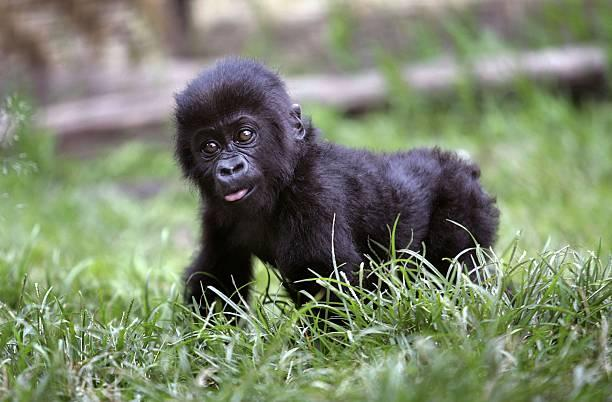goriile_montagne: (129, 48, 552, 338)
